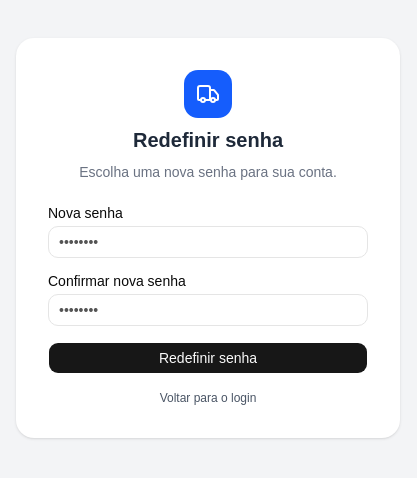
it: RedefinirSenha › valida senha curta e senhas que não coincidem
Step 1. Type "123" into the password field labelled "Nova senha" → (208, 242), box left=48, top=226, right=368, bottom=258
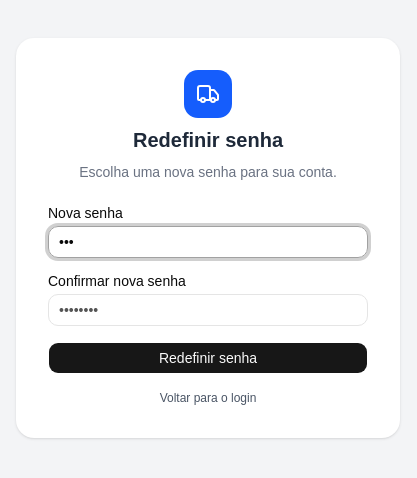
Step 2. Type "456" into the password field labelled "Confirmar nova senha" → (208, 310), box left=48, top=294, right=368, bottom=326
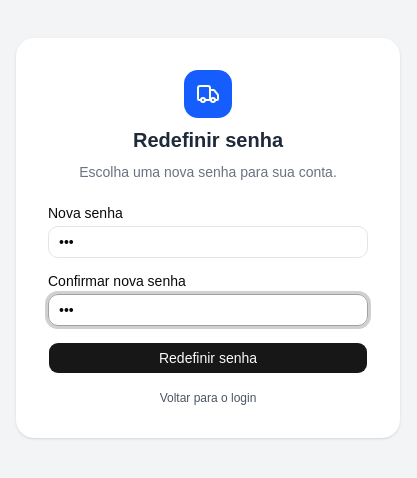
Step 3. Click the button "Redefinir senha" → (208, 358), box left=48, top=342, right=368, bottom=374
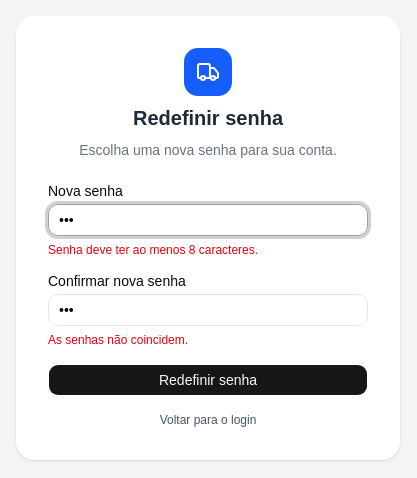
Check: the text "Senha deve ter ao menos 8 caracteres." is shown, box left=48, top=243, right=258, bottom=257
